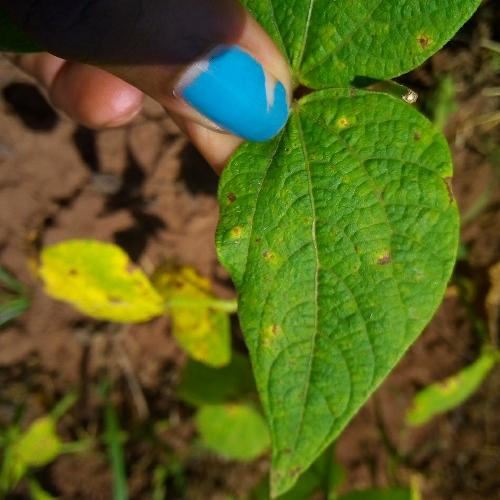hawar: (238, 122, 426, 392)
